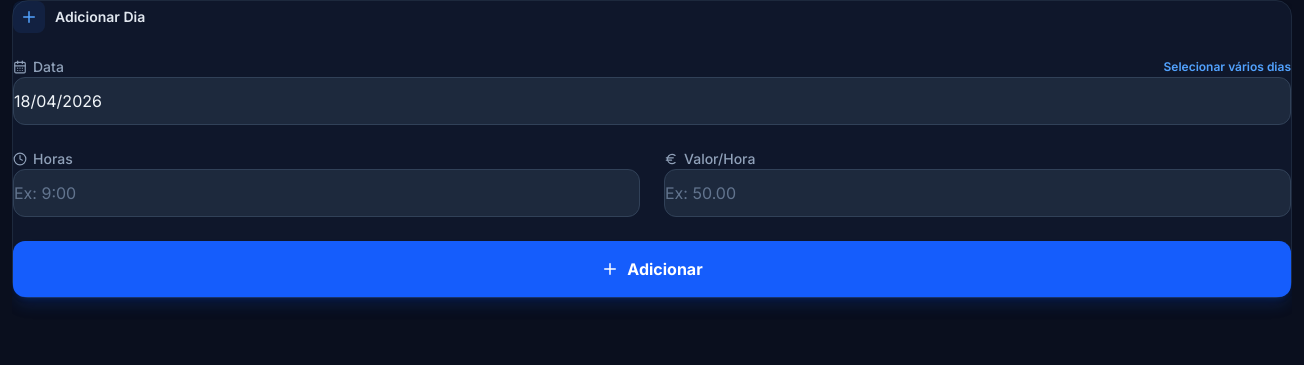
Test: AddEntryCard (unit) › should show error when rate is empty
The width and height of the screenshot is (1304, 365).
Type "8:00" into the field with placeholder "Ex: 9:00". click: (326, 193)
box: [13, 169, 640, 217]
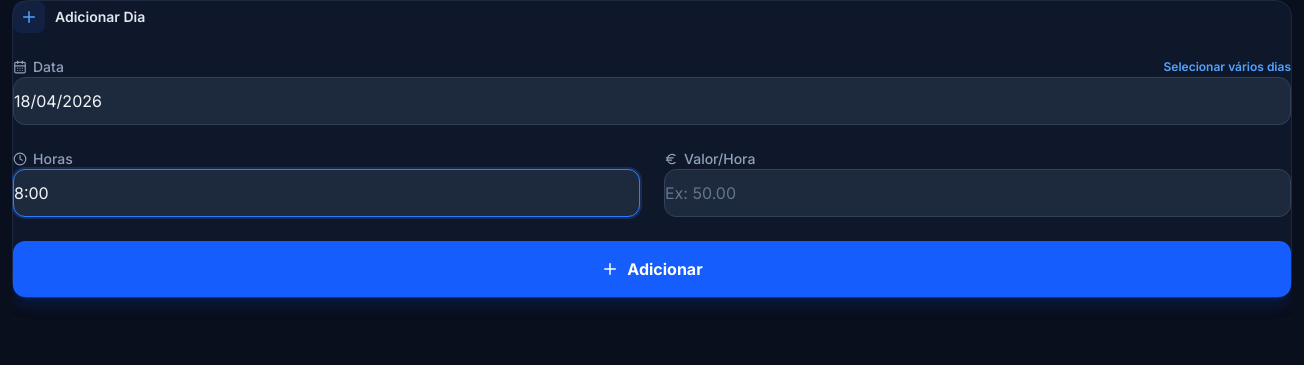
Click the button "Adicionar". click: (652, 269)
box: [13, 241, 1291, 297]
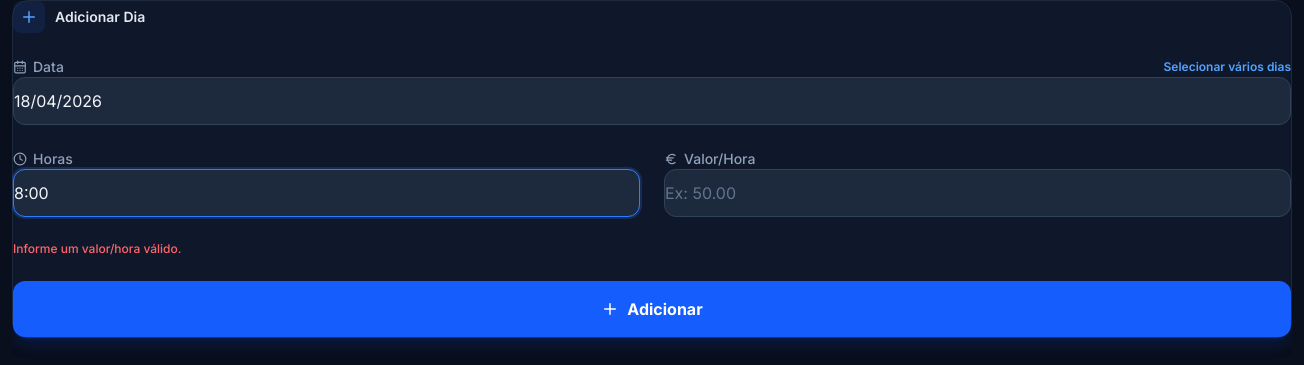
Check: the text "Informe um valor/hora válido." is shown, box [13, 241, 181, 256]
